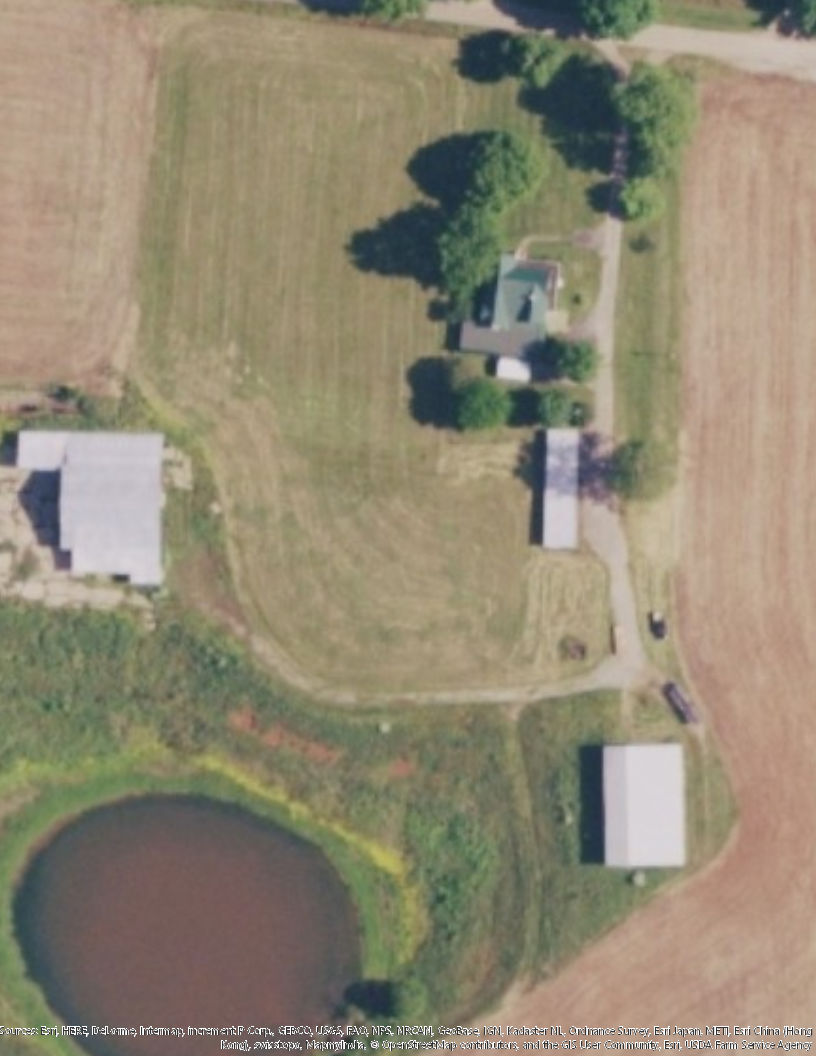cafo: (591, 731, 695, 876), (532, 416, 594, 552)
